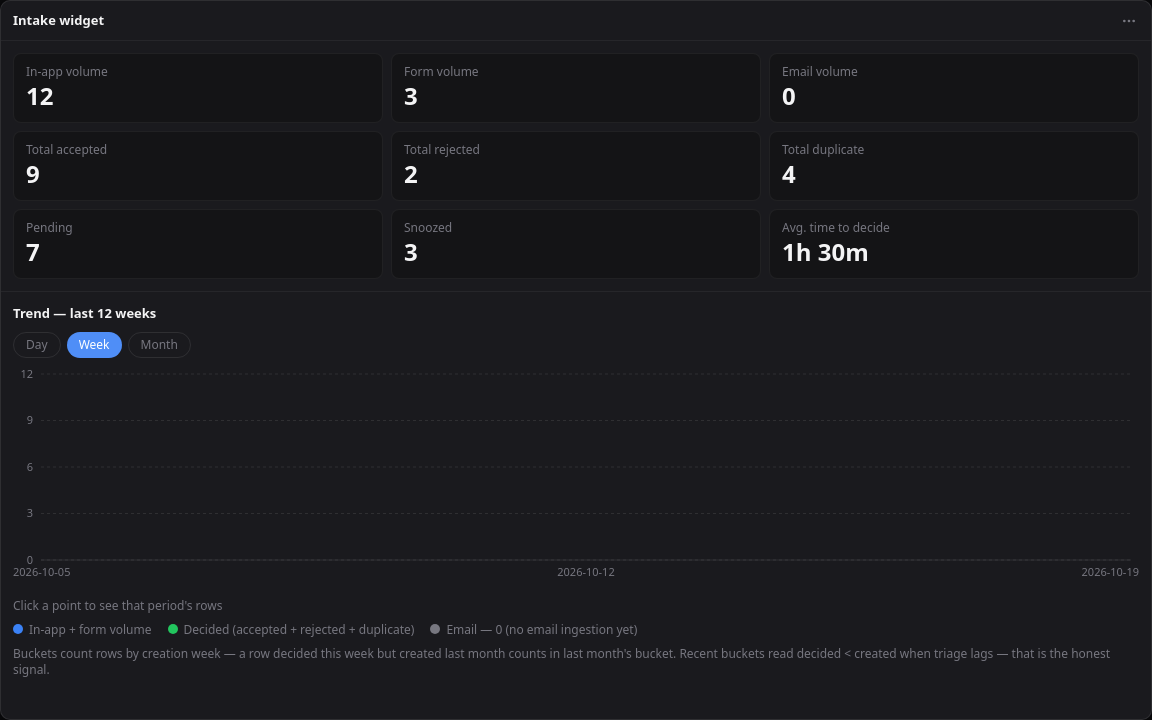
Test case: WidgetCard intake bucket drill-down (C87T1) › metric tile click still opens the metric view unchanged
The width and height of the screenshot is (1152, 720).
Expected: the heading "Trend — last 12 weeks" is shown, x1=13 y1=304 x2=156 y2=322
Click the button with aria-label "Drill into In-app volume".
click(67, 72)  # box x1=13 y1=53 x2=383 y2=123
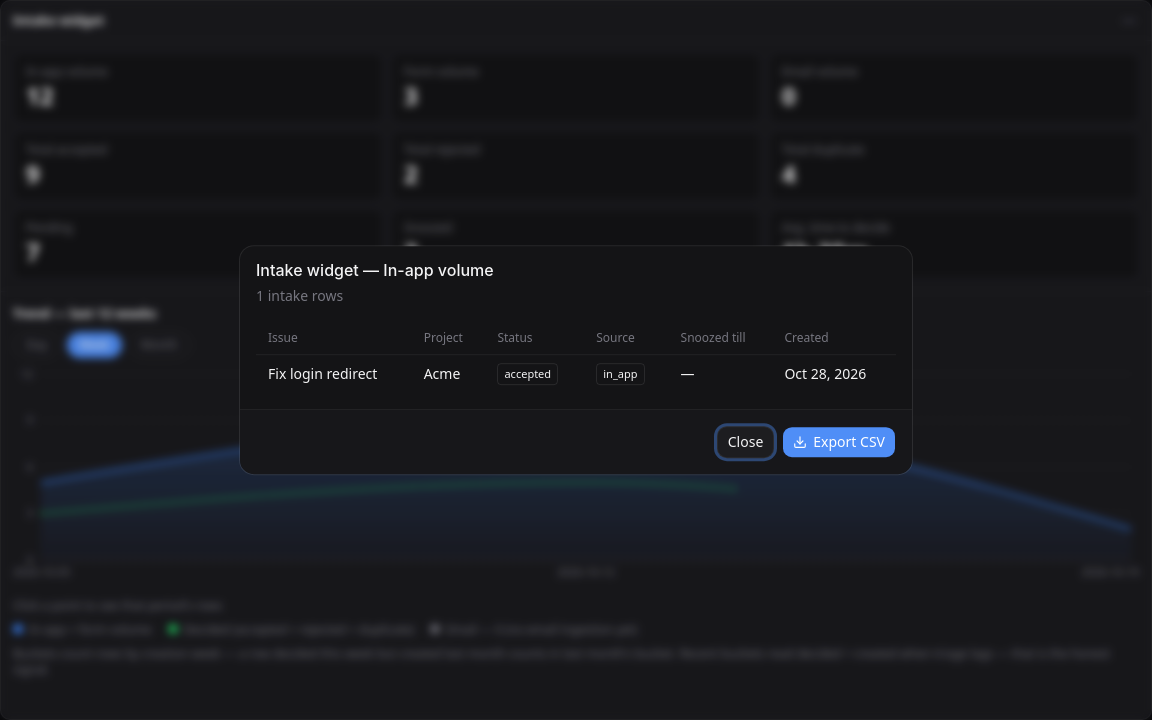
Now the heading "Intake widget — In-app volume" is shown, box x1=256 y1=260 x2=494 y2=280
